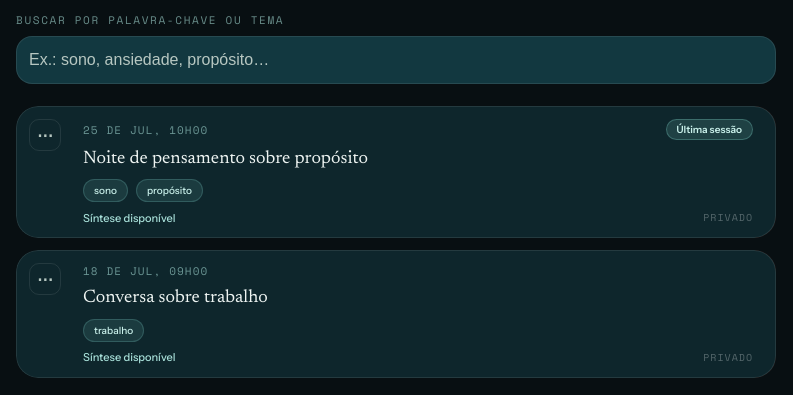
Test: HistoryList › mostra uma mensagem quando a busca não encontra nenhuma sessão
Type "algo inexistente" into the search field labelled "Buscar por palavra-chave ou tema" at point(396, 60), box left=16, top=36, right=776, bottom=84
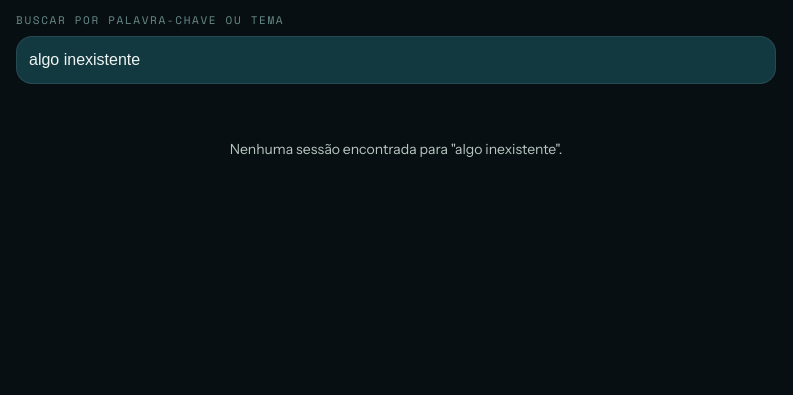
Check: the text "Nenhuma sessão encontrada para \"algo inexistente\"." is shown, box left=230, top=140, right=562, bottom=158
